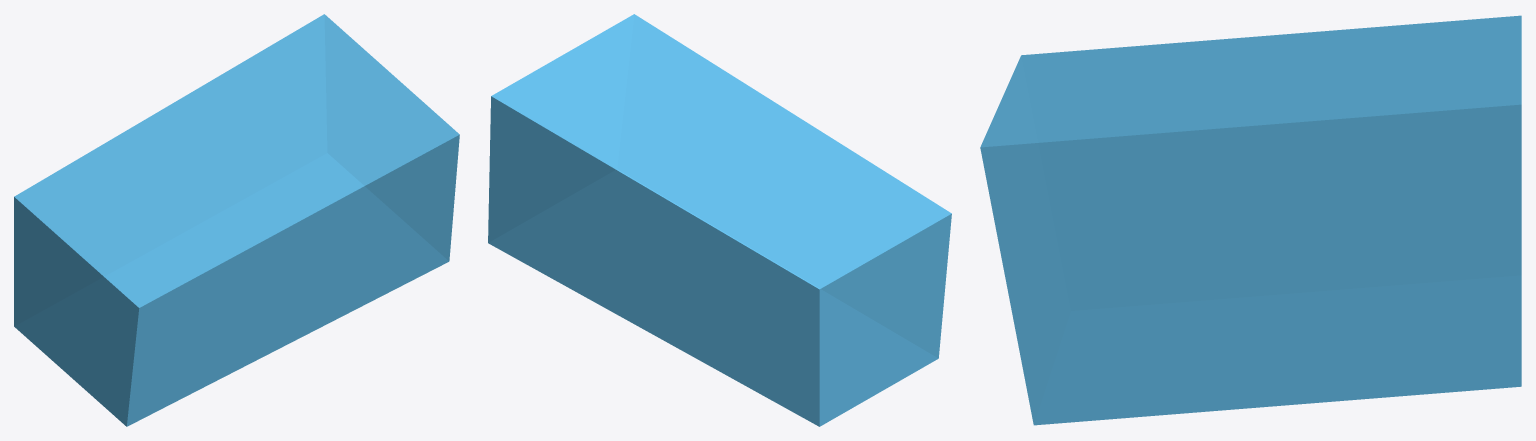
Rendered from Event_421115418_HErechit_45.fbx.
The picture shows the model from 3 angles, left to right: view 1: azimuth 30°, elevation 25°; view 2: azimuth 150°, elevation 25°; view 3: azimuth 270°, elevation 25°; orthographic projection. The views are drawn at different scales.
Parts seen in each view (by area): view 1: Model; view 2: Model; view 3: Model.
Part boxes in pixels (box(x1,y1,x2,y2)): Model: box(14, 14, 459, 426); Model: box(488, 14, 951, 426); Model: box(980, 15, 1521, 425).
Size of the model in its own units: 0.8408 by 0.6533 by 0.6293.
